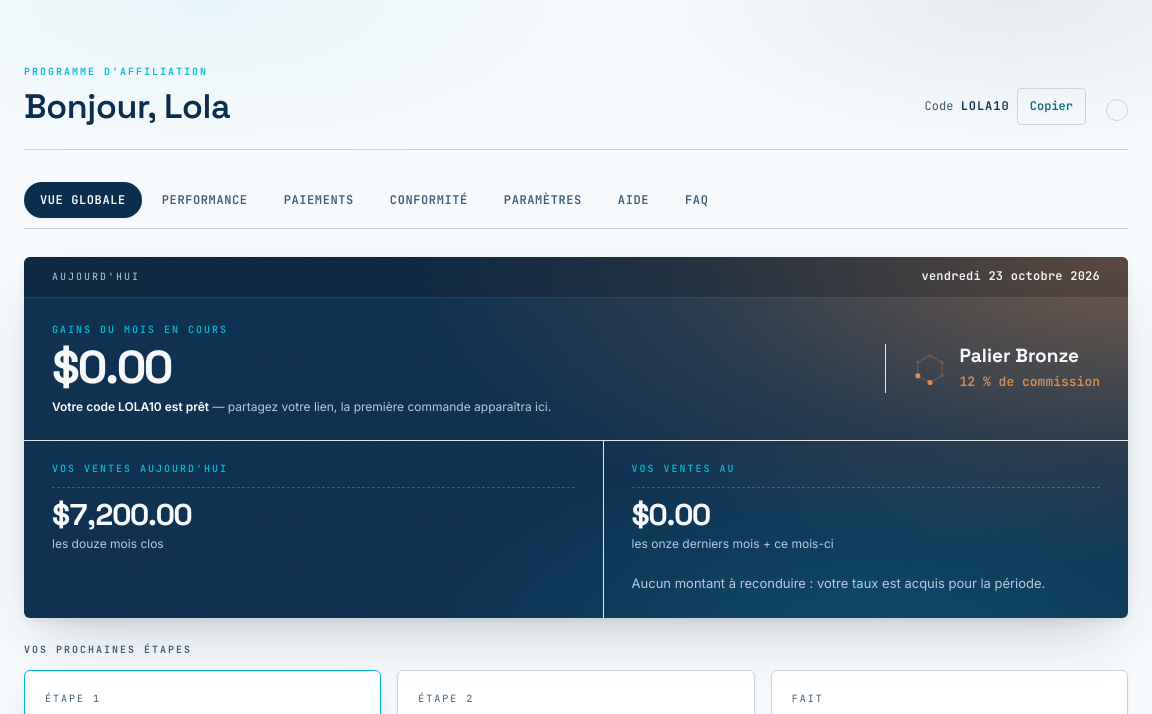
Scenario: la créance sur le prochain versement › LE CAS DE MIREILLE : le montant annoncé est NET de la dette
Click the button with test id "affiliate-tab-payments".
click(319, 200)  # box [268,182,370,218]
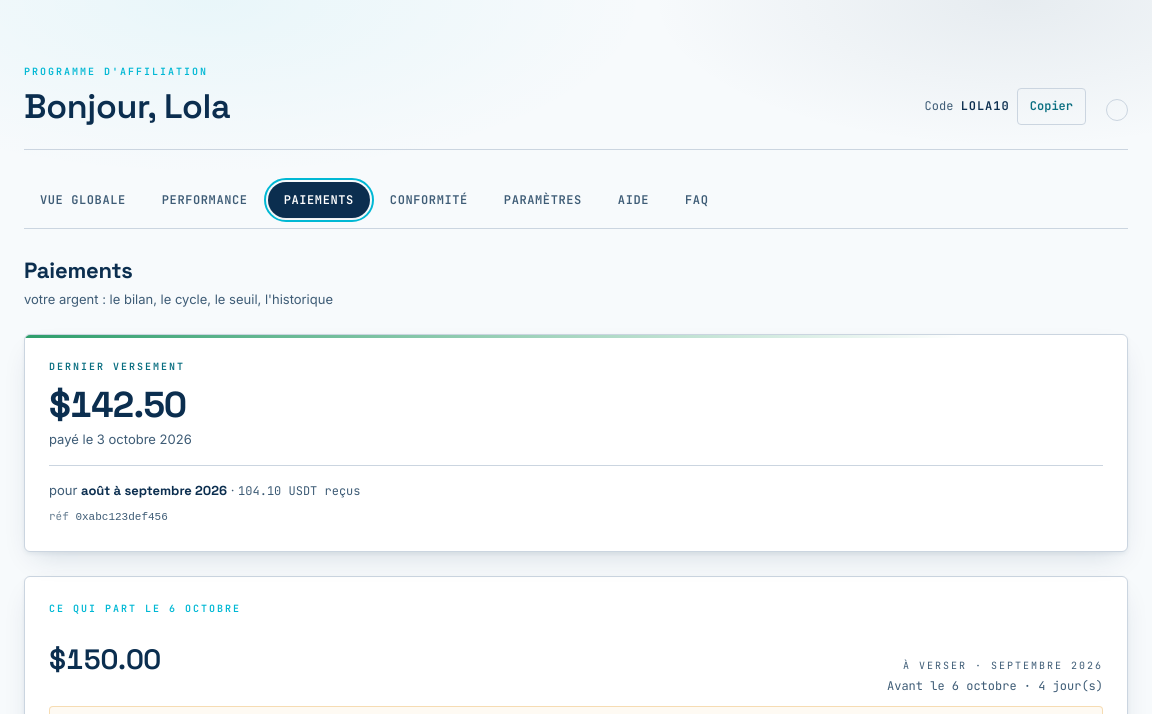
Now the text with test id "cycle-du" shows "150.00", box [49,641,161,677]
